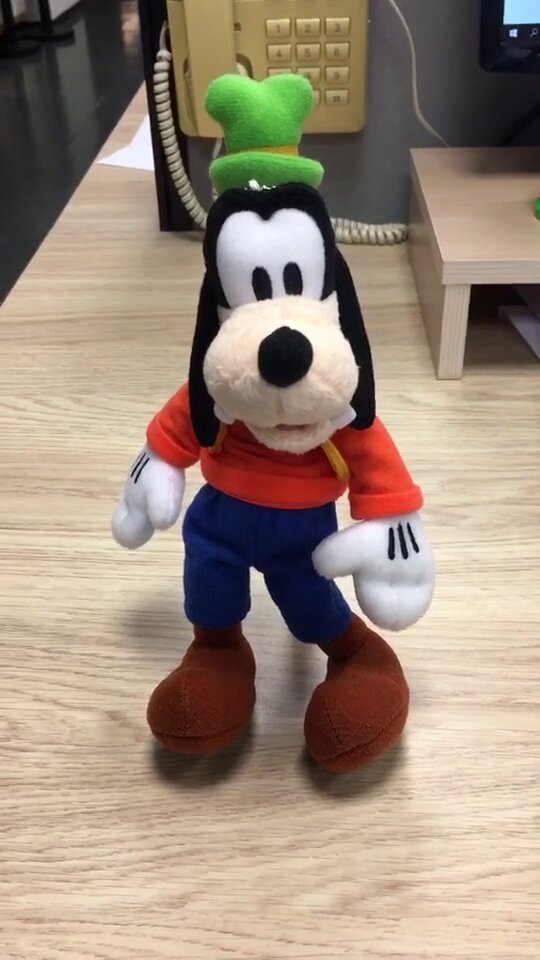goofy: (109, 68, 444, 783)
